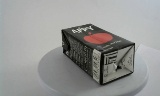appy: (56, 22, 127, 86)
